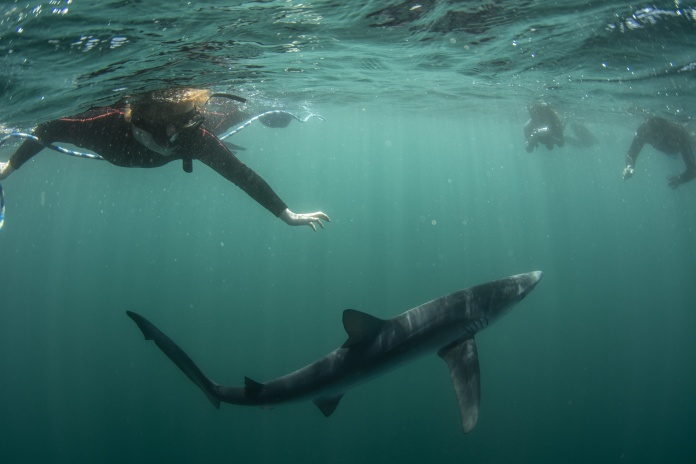Azul: (114, 247, 560, 435)
